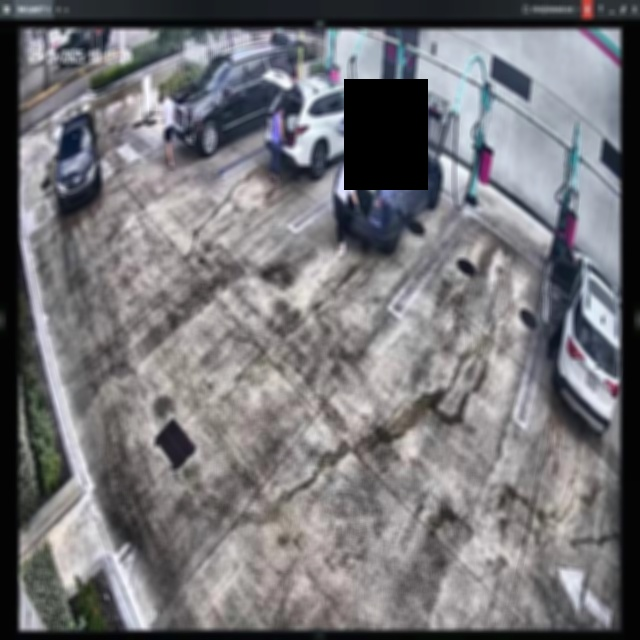Car: (335, 115, 443, 255), (262, 70, 377, 173)
